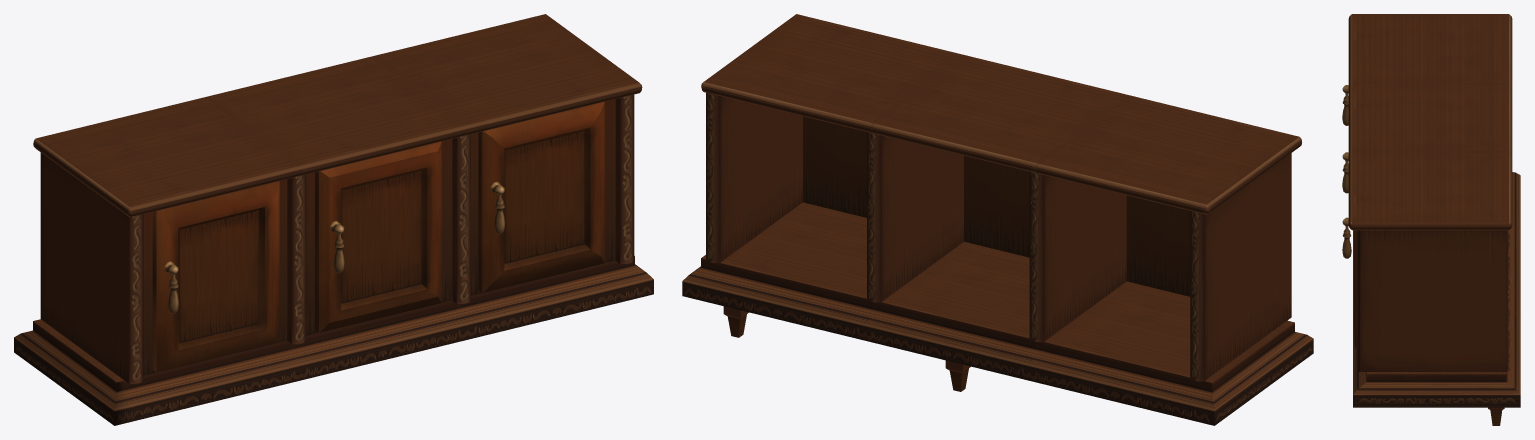
File: Modular_Cabinet_ThreeSet.fbx
3 renders of one model, left to right at view 1: azimuth 30°, elevation 25°; view 2: azimuth 150°, elevation 25°; view 3: azimuth 270°, elevation 25°, orthographic. The views are drawn at different scales.
Parts seen in each view (by area): view 1: Basic_CpD, Basic_CpD2, Basic_CpD1, Rounded_LFT_TnB, Rounded_RT_TnB, Panel4, Rounded_MID_TnB, Bevelled_LFT_TnB, Bevelled_RT_TnB, Bevelled_MID_TnB, Panel3, Panel1 (+4 smaller); view 2: Bevelled_LFT_TnB, Rounded_LFT_TnB, Rounded_RT_TnB, Panel4, Rounded_MID_TnB, Bevelled_RT_TnB, Bevelled_MID_TnB, Panel3, Panel2, Panel1, Basic_FP1, Basic_FP (+1 smaller); view 3: Panel1, Rounded_RT_TnB, Rounded_LFT_TnB, Rounded_MID_TnB, Bevelled_RT_TnB, Bevelled_MID_TnB, Bevelled_LFT_TnB, Basic_CpD2, Drop_HDL7, Drop_HDL8, Drop_HDL9, Leg6.
Boxes of the visible parts, x1,y1,x2,y2 form: Basic_CpD: (152, 181, 279, 372); Basic_CpD2: (478, 101, 604, 292); Basic_CpD1: (315, 141, 441, 332); Rounded_LFT_TnB: (33, 96, 303, 217); Rounded_RT_TnB: (374, 14, 642, 134); Panel4: (40, 152, 143, 383); Rounded_MID_TnB: (208, 56, 469, 175); Bevelled_LFT_TnB: (14, 319, 300, 425); Bevelled_RT_TnB: (459, 256, 653, 339); Bevelled_MID_TnB: (292, 300, 467, 380); Panel3: (287, 174, 306, 344); Panel1: (615, 94, 634, 264); Bevelled_LFT_TnB: (1030, 281, 1313, 425); Rounded_LFT_TnB: (1035, 95, 1301, 214); Rounded_RT_TnB: (701, 14, 965, 132); Panel4: (1190, 153, 1291, 381); Rounded_MID_TnB: (871, 55, 1129, 172); Bevelled_RT_TnB: (682, 202, 874, 340); Bevelled_MID_TnB: (866, 242, 1038, 380); Panel3: (1029, 172, 1126, 342); Panel2: (867, 132, 963, 302); Panel1: (706, 92, 802, 262); Basic_FP1: (964, 155, 1029, 257); Basic_FP: (1126, 195, 1190, 296); Panel1: (1356, 229, 1509, 371); Rounded_RT_TnB: (1348, 151, 1512, 230); Rounded_LFT_TnB: (1348, 14, 1512, 87); Rounded_MID_TnB: (1348, 84, 1512, 155); Bevelled_RT_TnB: (1353, 312, 1520, 407); Bevelled_MID_TnB: (1353, 244, 1520, 318); Bevelled_LFT_TnB: (1353, 172, 1520, 250); Basic_CpD2: (1354, 230, 1356, 348); Drop_HDL7: (1342, 217, 1351, 258); Drop_HDL8: (1342, 152, 1348, 193); Drop_HDL9: (1342, 85, 1348, 125); Leg6: (1488, 407, 1504, 425).
Size of the model in its own units: 211 by 95.65 by 72.4.
